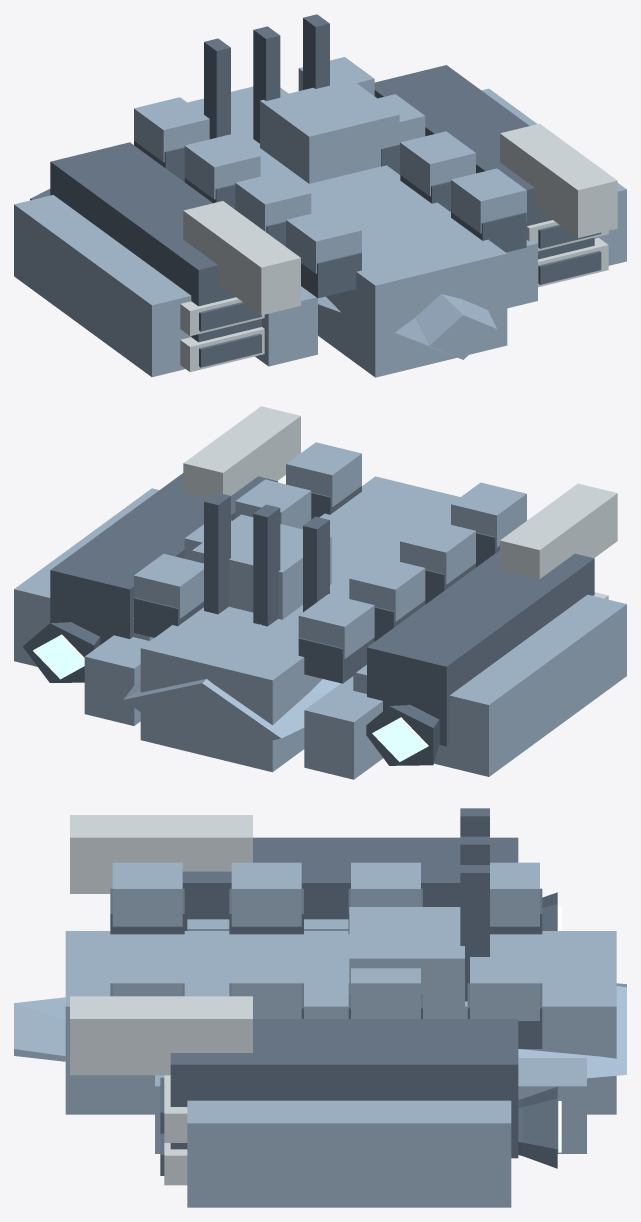
3 renders of one model, top to bottom at view 1: azimuth 30°, elevation 25°; view 2: azimuth 150°, elevation 25°; view 3: azimuth 270°, elevation 25°, orthographic. The views are drawn at different scales.
Bounding box in the file's own units: 17.29 × 7.78 × 16.47.
